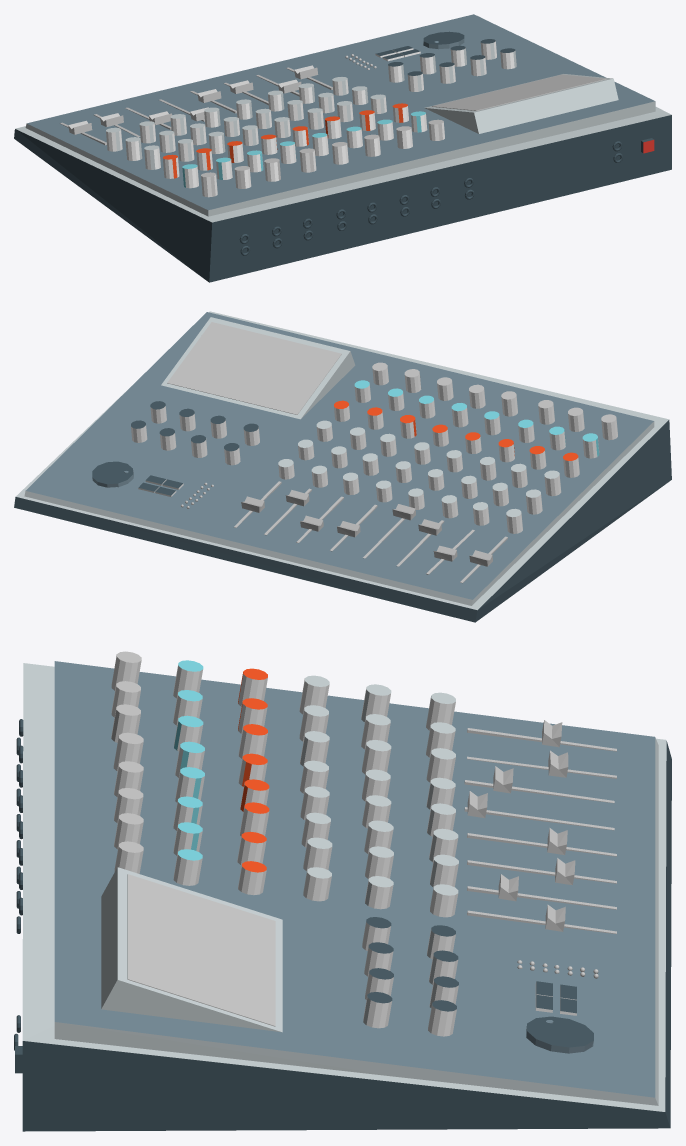
Rendered from mixingDesk.obj.
The picture shows the model from 3 angles, top to bottom: view 1: azimuth 30°, elevation 25°; view 2: azimuth 150°, elevation 25°; view 3: azimuth 270°, elevation 25°; orthographic projection. The views are drawn at different scales.
Parts seen in each view (by area): view 1: group1044398291, group46021557, group1285066321, group79297576, group585407428; view 2: group1044398291, group46021557, group79297576, group1285066321, group585407428; view 3: group1044398291, group46021557, group79297576, group1285066321, group585407428, group1928956943, group1691023472, group604880534, group944311541, group1115758431, group916088644, group1304572911 (+45 smaller).
Part boxes in pixels (bbox=[...]): group1044398291: bbox=[25, 14, 655, 216]; group46021557: bbox=[14, 15, 671, 282]; group1285066321: bbox=[424, 74, 618, 133]; group79297576: bbox=[432, 74, 606, 110]; group585407428: bbox=[423, 31, 464, 49]; group1044398291: bbox=[24, 312, 654, 605]; group46021557: bbox=[14, 311, 671, 622]; group79297576: bbox=[167, 322, 341, 414]; group1285066321: bbox=[161, 317, 355, 419]; group585407428: bbox=[92, 461, 133, 487]; group1044398291: bbox=[54, 661, 658, 1105]; group46021557: bbox=[22, 663, 671, 1131]; group79297576: bbox=[127, 874, 275, 1026]; group1285066321: bbox=[101, 867, 282, 1032]; group585407428: bbox=[526, 1016, 593, 1053]; group1928956943: bbox=[173, 849, 202, 885]; group1691023472: bbox=[363, 992, 392, 1028]; group604880534: bbox=[428, 1000, 456, 1036]; group944311541: bbox=[303, 867, 331, 901]; group1115758431: bbox=[238, 861, 266, 895]; group916088644: bbox=[111, 651, 141, 690]; group1304572911: bbox=[299, 675, 329, 714].
Size of the model in its own units: 3.44 by 0.5546 by 2.57.
